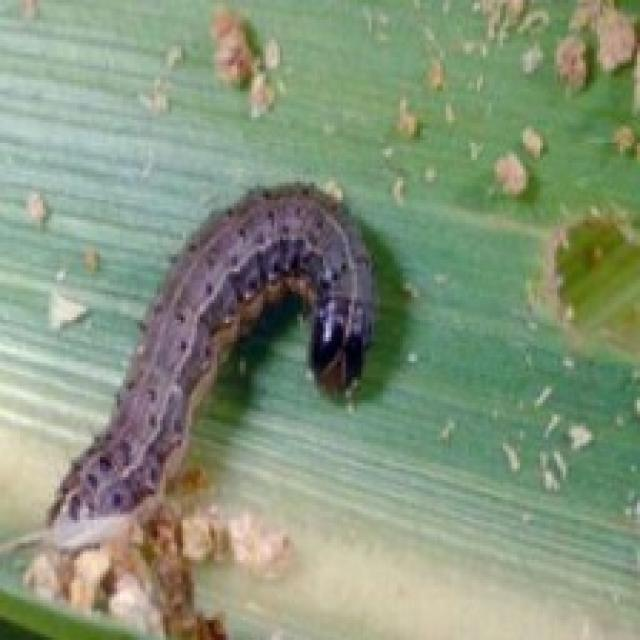armyworm: (38, 164, 384, 547)
